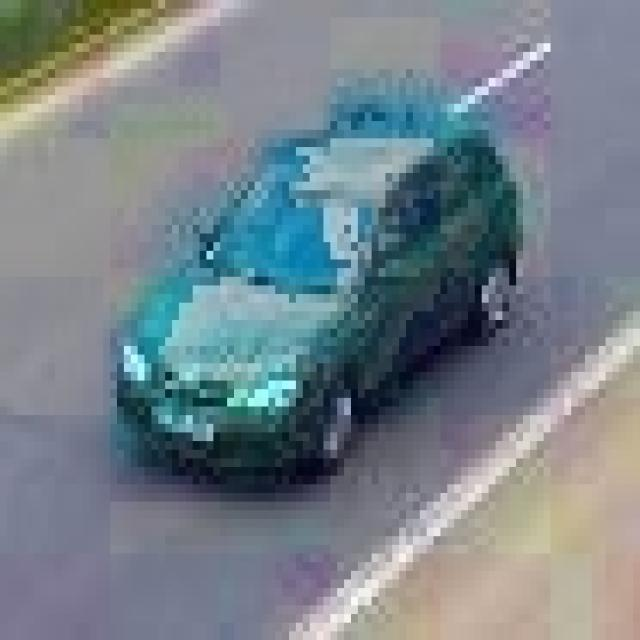green: (124, 104, 537, 493)
